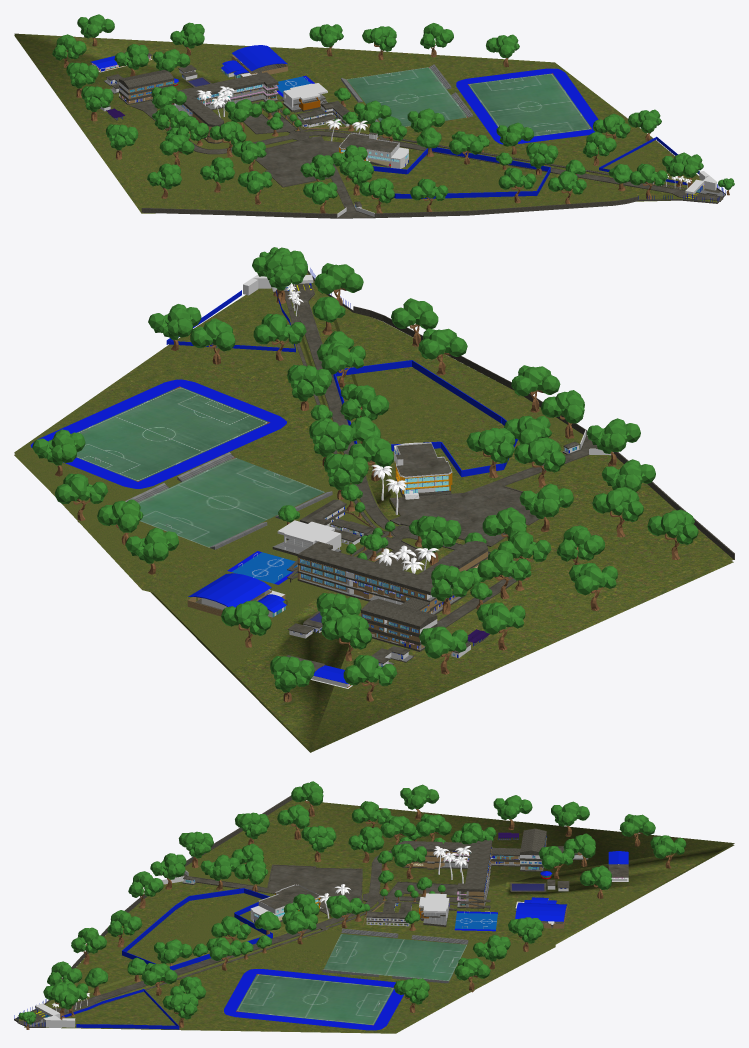
The model's file is Unimap.gltf.
3 views of the same model, one above another, from view 1: azimuth 30°, elevation 25°; view 2: azimuth 150°, elevation 25°; view 3: azimuth 270°, elevation 25° (orthographic). The views are drawn at different scales.
Visible parts, largest first — view 1: No_mesh.001, No_mesh.008, Mesh_Canchas-2, No_mesh.005, No_mesh.016, No_mesh.011, Mesh_base-A T, Mesh_Coliseo&GYM, Plane.003, No_mesh.004, p1.008, Mesh_Cafetreia Nueva (+43 smaller); view 2: No_mesh.001, No_mesh.008, Mesh_Canchas-2, No_mesh.005, Mesh_base-A T, No_mesh.004, Mesh_Coliseo&GYM, p1.008, Plane.003, No_mesh.016, No_mesh.011, Mesh_Cafetreia Nueva (+19 smaller); view 3: No_mesh.001, Mesh_Canchas-2, No_mesh.008, No_mesh.005, No_mesh.011, Mesh_base-A T, Plane.003, No_mesh.004, Mesh_Coliseo&GYM, Mesh_Construcion.001, Mesh_Canchas-1, p1.008 (+22 smaller).
Part boxes in pixels (bbox=[...]): No_mesh.001: bbox=[14, 33, 717, 213]; No_mesh.008: bbox=[38, 41, 717, 213]; Mesh_Canchas-2: bbox=[341, 64, 598, 144]; No_mesh.005: bbox=[130, 101, 722, 217]; No_mesh.016: bbox=[141, 201, 614, 218]; No_mesh.011: bbox=[129, 100, 723, 218]; Mesh_base-A T: bbox=[177, 72, 278, 126]; Mesh_Coliseo&GYM: bbox=[221, 45, 287, 78]; Plane.003: bbox=[372, 147, 550, 198]; No_mesh.004: bbox=[14, 35, 722, 213]; p1.008: bbox=[340, 133, 408, 166]; Mesh_Cafetreia Nueva: bbox=[281, 83, 327, 112]; No_mesh.001: bbox=[15, 273, 733, 750]; No_mesh.008: bbox=[14, 273, 583, 749]; Mesh_Canchas-2: bbox=[30, 379, 332, 549]; No_mesh.005: bbox=[285, 283, 597, 626]; Mesh_base-A T: bbox=[297, 541, 487, 594]; No_mesh.004: bbox=[14, 317, 733, 752]; Mesh_Coliseo&GYM: bbox=[187, 573, 287, 617]; p1.008: bbox=[394, 442, 451, 499]; Plane.003: bbox=[333, 360, 517, 477]; No_mesh.016: bbox=[383, 315, 734, 559]; No_mesh.011: bbox=[285, 283, 589, 627]; Mesh_Cafetreia Nueva: bbox=[272, 520, 341, 556]; No_mesh.001: bbox=[16, 800, 734, 1031]; Mesh_Canchas-2: bbox=[224, 928, 468, 1030]; No_mesh.008: bbox=[33, 800, 732, 1030]; No_mesh.005: bbox=[18, 851, 463, 1025]; No_mesh.011: bbox=[17, 850, 464, 1026]; Mesh_base-A T: bbox=[398, 840, 492, 891]; Plane.003: bbox=[122, 888, 272, 970]; No_mesh.004: bbox=[24, 844, 734, 1033]; Mesh_Coliseo&GYM: bbox=[515, 897, 567, 928]; Mesh_Construcion.001: bbox=[62, 989, 179, 1029]; Mesh_Canchas-1: bbox=[454, 911, 497, 931]; p1.008: bbox=[251, 885, 322, 921].
Size of the model in its own units: 431 by 32.08 by 560.
33 materials, 7 textured.
